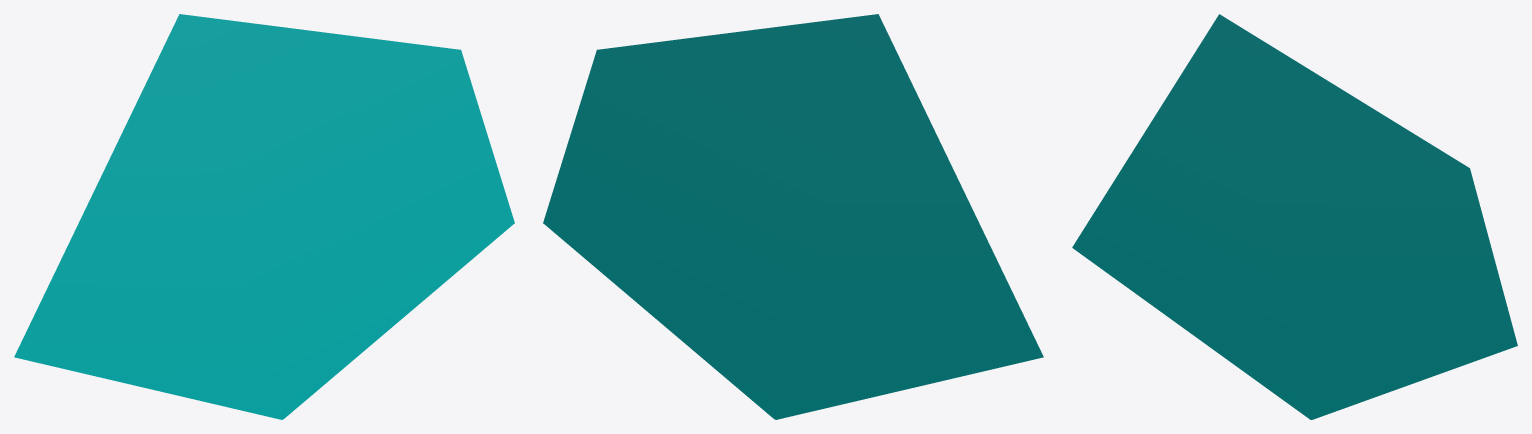
Rendered from uddmcgbia_VarB_LOD3.fbx.
The picture shows the model from 3 angles, left to right: view 1: azimuth 30°, elevation 25°; view 2: azimuth 150°, elevation 25°; view 3: azimuth 330°, elevation 25°; orthographic projection. The views are drawn at different scales.
Visible parts, largest first — view 1: _1de7_VarB_LOD4; view 2: _1de7_VarB_LOD4; view 3: _1de7_VarB_LOD4.
Part boxes in pixels (left/top/right/bottom): _1de7_VarB_LOD4: left=14, top=14, right=514, bottom=419; _1de7_VarB_LOD4: left=543, top=14, right=1043, bottom=419; _1de7_VarB_LOD4: left=1072, top=14, right=1517, bottom=419.
Size of the model in its own units: 15.53 by 12.77 by 0.
